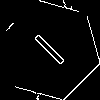I: (25, 25, 68, 68)
